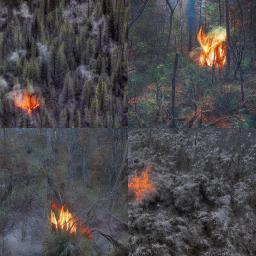Small fire: (30, 187, 105, 246), (181, 15, 239, 81), (0, 82, 50, 122), (123, 161, 164, 206)
